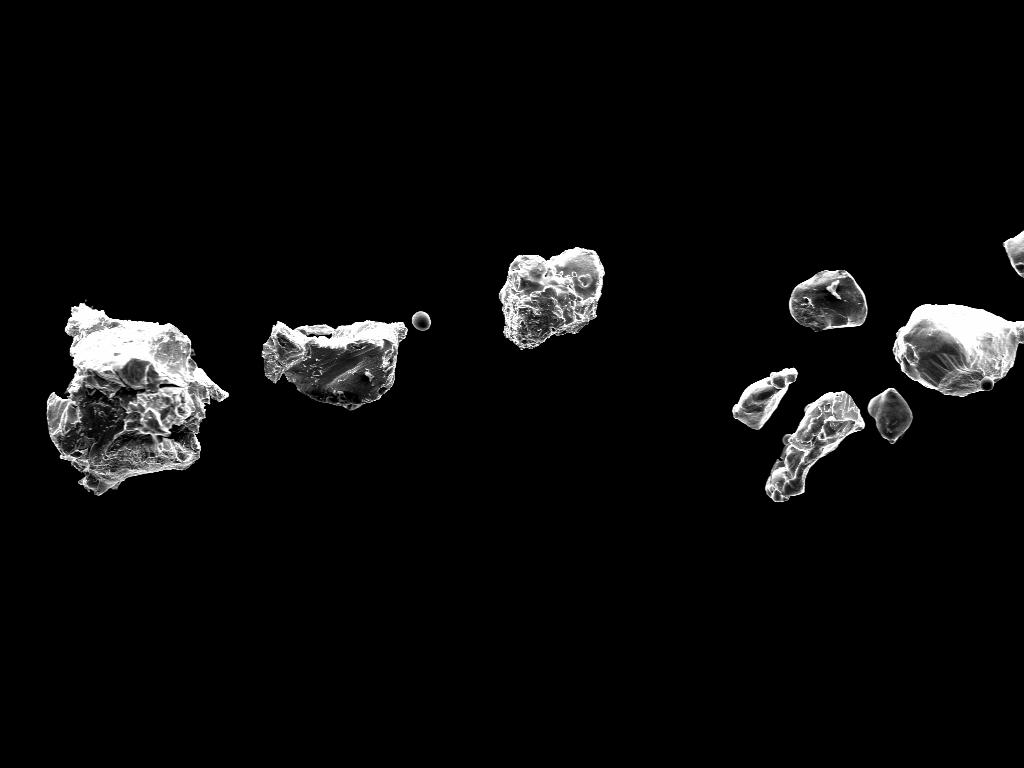Powder: (48, 304, 228, 494), (262, 322, 408, 409), (894, 304, 1024, 396), (766, 392, 864, 502), (500, 248, 604, 348), (790, 270, 866, 331), (732, 368, 798, 430), (868, 388, 912, 443), (1004, 230, 1024, 277), (412, 312, 432, 330)
